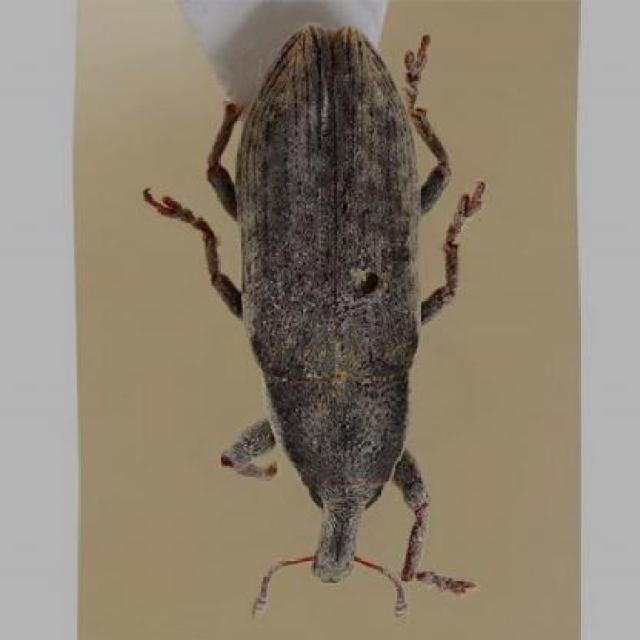rice-bug: (207, 21, 471, 612)
